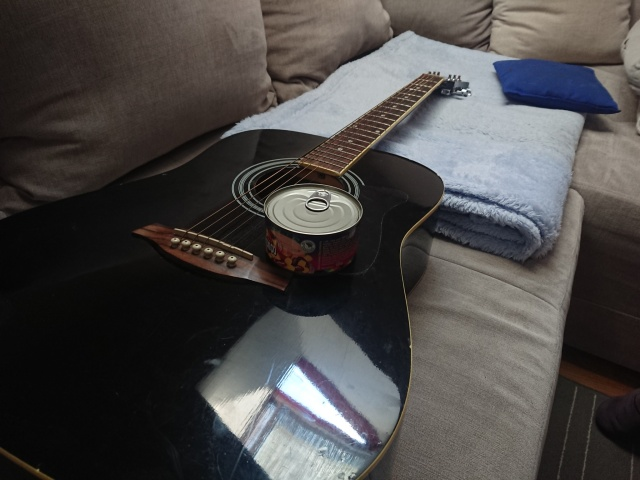Giana Tuna Salad Mexico 185g: (261, 180, 366, 277)
